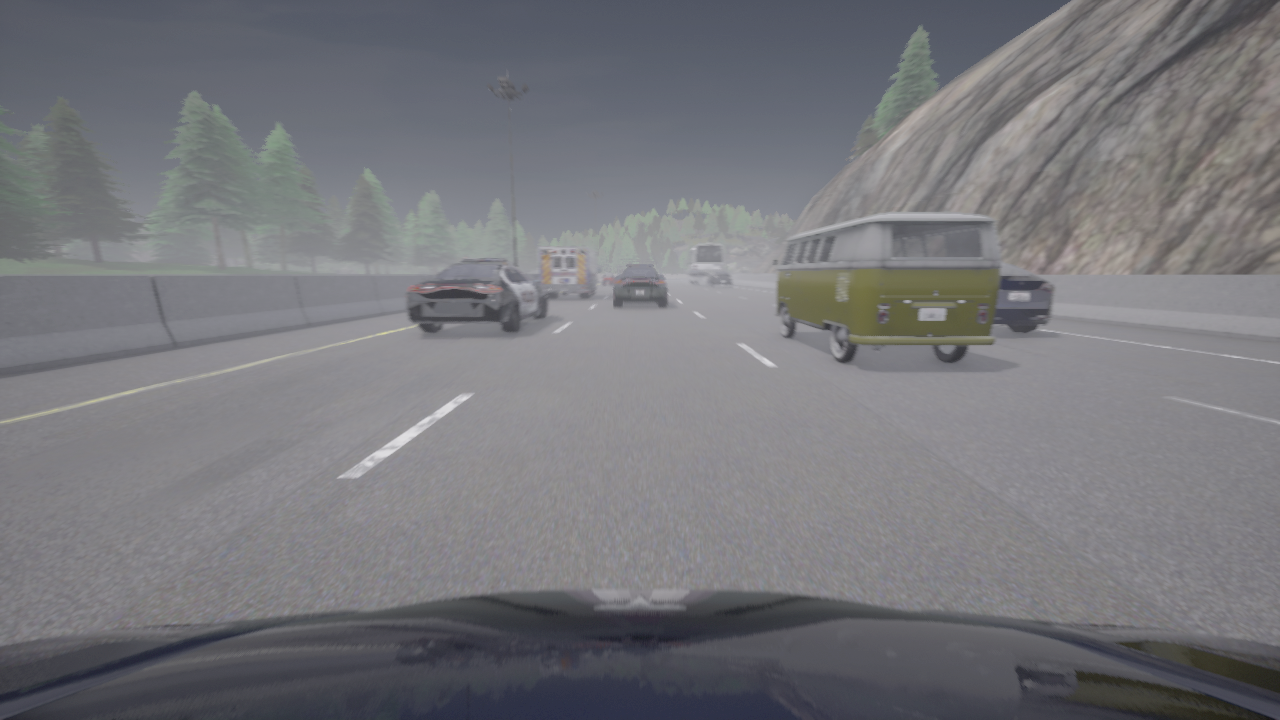cyclist: (0, 588, 1279, 719), (773, 212, 1001, 362), (405, 258, 547, 332), (993, 262, 1054, 332), (539, 246, 600, 297), (613, 265, 666, 306), (684, 243, 723, 284), (706, 270, 732, 287), (602, 272, 615, 284)
